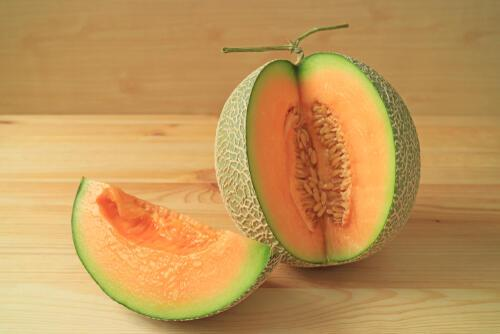Melon Ripe: (214, 22, 425, 260), (68, 182, 282, 321)
